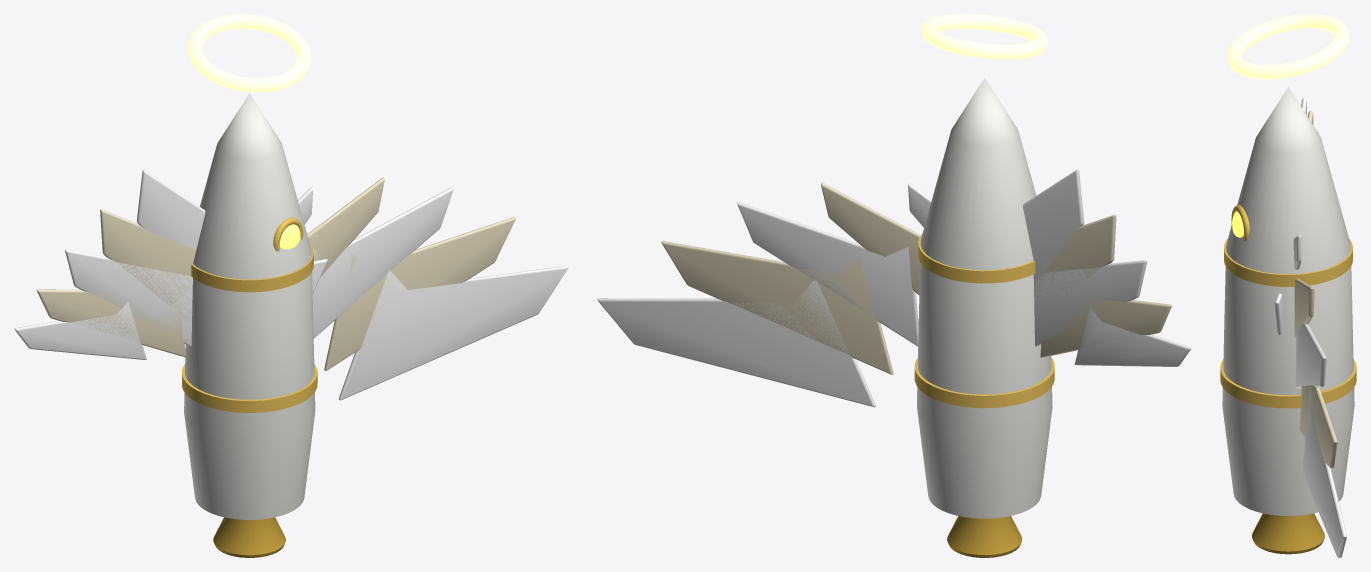
The model's file is Rocket_39_Angel.fbx.
3 views of the same model, side by side, from view 1: azimuth 30°, elevation 25°; view 2: azimuth 150°, elevation 25°; view 3: azimuth 270°, elevation 25° (orthographic). The views are drawn at different scales.
Visible parts, largest first — view 1: R39_Body, R39_WingFeather, R39_WingFeather_2, R39_WingFeather_3, R39_WingFeather_8, R39_WingFeather_7, R39_WingFeather_9, R39_WingFeather_10, R39_Halo, R39_WingFeather_6, R39_WingFeather_4, R39_Nozzle (+2 smaller); view 2: R39_Body, R39_WingFeather, R39_WingFeather_2, R39_WingFeather_3, R39_WingFeather_8, R39_WingFeather_6, R39_WingFeather_10, R39_WingFeather_4, R39_Halo, R39_WingFeather_9, R39_WingFeather_7, R39_Nozzle (+2 smaller); view 3: R39_Body, R39_Halo, R39_WingFeather, R39_Nozzle, R39_Band_2, R39_Band, R39_WingFeather_3, R39_WingFeather_2, R39_WingFeather_4, R39_WingFeather_6, R39_WindowFrame, R39_WingFeather_5 (+1 smaller).
Boxes of the visible parts, x1,y1,x2,y2 form: R39_Body: (184,93,315,519); R39_WingFeather: (338,266,568,400); R39_WingFeather_2: (324,217,515,370); R39_WingFeather_3: (312,187,453,338); R39_WingFeather_8: (65,249,192,346); R39_WingFeather_7: (100,209,196,323); R39_WingFeather_9: (36,289,185,357); R39_WingFeather_10: (14,302,146,359); R39_Halo: (188,14,311,92); R39_WingFeather_6: (136,170,327,294); R39_WingFeather_4: (307,177,384,276); R39_Nozzle: (213,517,285,557); R39_Body: (917,78,1052,518); R39_WingFeather: (597,278,875,407); R39_WingFeather_2: (661,241,893,374); R39_WingFeather_3: (737,202,918,346); R39_WingFeather_8: (1034,260,1147,346); R39_WingFeather_6: (1023,169,1084,284); R39_WingFeather_10: (1074,307,1191,366); R39_WingFeather_4: (821,182,920,295); R39_Halo: (921,14,1048,59); R39_WingFeather_9: (1040,282,1171,357); R39_WingFeather_7: (1034,214,1116,307); R39_Nozzle: (947,516,1022,557); R39_Body: (1222,87,1354,515); R39_Halo: (1227,14,1349,79); R39_WingFeather: (1302,383,1346,557); R39_Nozzle: (1252,513,1324,554); R39_Band_2: (1224,239,1352,286); R39_Band: (1220,359,1356,408); R39_WingFeather_3: (1295,298,1326,388); R39_WingFeather_2: (1299,385,1337,468); R39_WingFeather_4: (1294,278,1314,338); R39_WingFeather_6: (1274,98,1306,334); R39_WindowFrame: (1231,205,1249,240); R39_WingFeather_5: (1293,235,1301,269).
Bounding box in the file's own units: 8.92 × 7.65 × 1.86.
